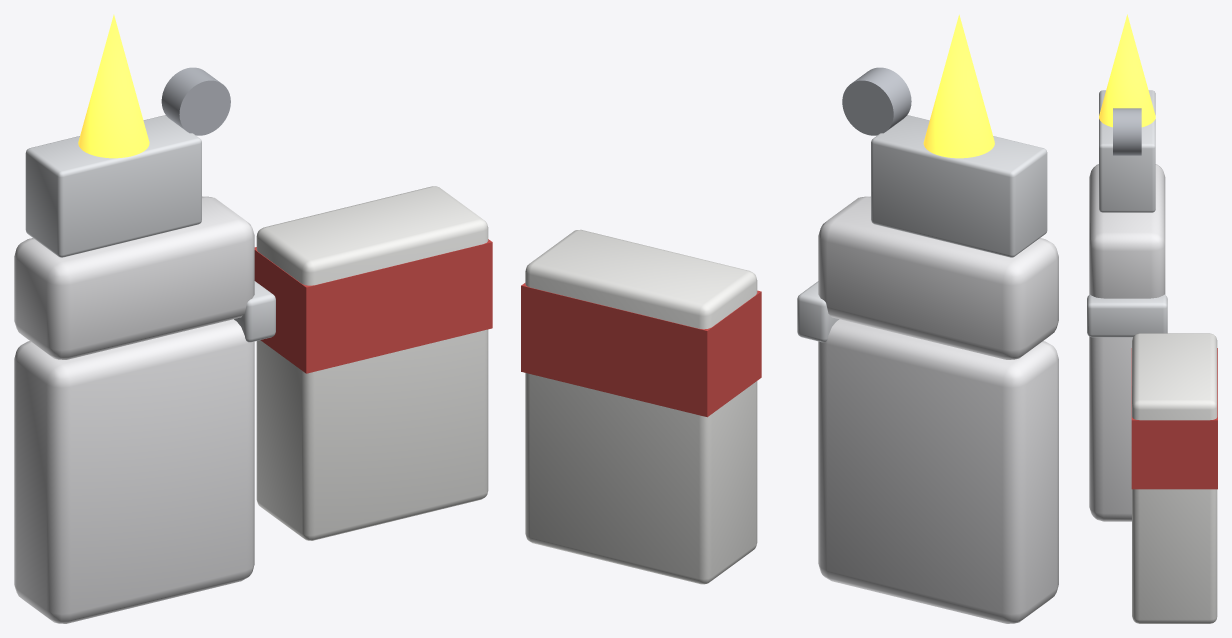
The model's file is lighter.glb.
The picture shows the model from 3 angles, left to right: view 1: azimuth 30°, elevation 25°; view 2: azimuth 150°, elevation 25°; view 3: azimuth 270°, elevation 25°; orthographic projection. The views are drawn at different scales.
Visible parts, largest first — view 1: case.001, pack, lid, packband, chimney, flame, wheel, hinge; view 2: case.001, pack, lid, packband, chimney, flame, wheel, hinge; view 3: pack, case.001, lid, packband, chimney, hinge, flame, wheel.
Boxes of the visible parts, x1,y1,x2,y2 form: case.001: [14, 319, 254, 623]; pack: [256, 186, 488, 540]; lid: [14, 196, 254, 359]; packband: [254, 239, 492, 373]; chimney: [25, 115, 201, 257]; flame: [78, 14, 149, 158]; wheel: [161, 67, 230, 135]; hinge: [234, 281, 275, 342]; case.001: [818, 319, 1058, 623]; pack: [525, 229, 757, 584]; lid: [818, 196, 1058, 359]; packband: [521, 283, 761, 417]; chimney: [871, 115, 1047, 257]; flame: [923, 14, 994, 158]; wheel: [842, 67, 911, 135]; hinge: [797, 281, 839, 342]; pack: [1132, 333, 1217, 623]; case.001: [1089, 336, 1132, 521]; lid: [1089, 164, 1165, 298]; packband: [1131, 348, 1217, 489]; chimney: [1099, 90, 1155, 212]; hinge: [1087, 294, 1167, 337]; flame: [1099, 14, 1155, 127]; wheel: [1113, 108, 1141, 155].
Bounding box in the file's own units: 0.4505 × 0.54 × 0.138.
